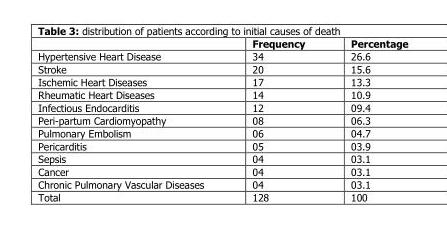table: (37, 36, 407, 202)
table column: (37, 36, 227, 202), (227, 36, 327, 202), (327, 36, 407, 202)
table column header: (37, 36, 407, 49)
table row: (37, 36, 407, 49), (37, 61, 407, 74), (37, 74, 407, 87), (37, 87, 407, 100), (37, 100, 407, 113), (37, 113, 407, 126), (37, 138, 407, 151), (37, 151, 407, 164), (37, 164, 407, 177), (37, 177, 407, 190), (37, 49, 407, 61), (37, 126, 407, 138), (37, 190, 407, 202)
